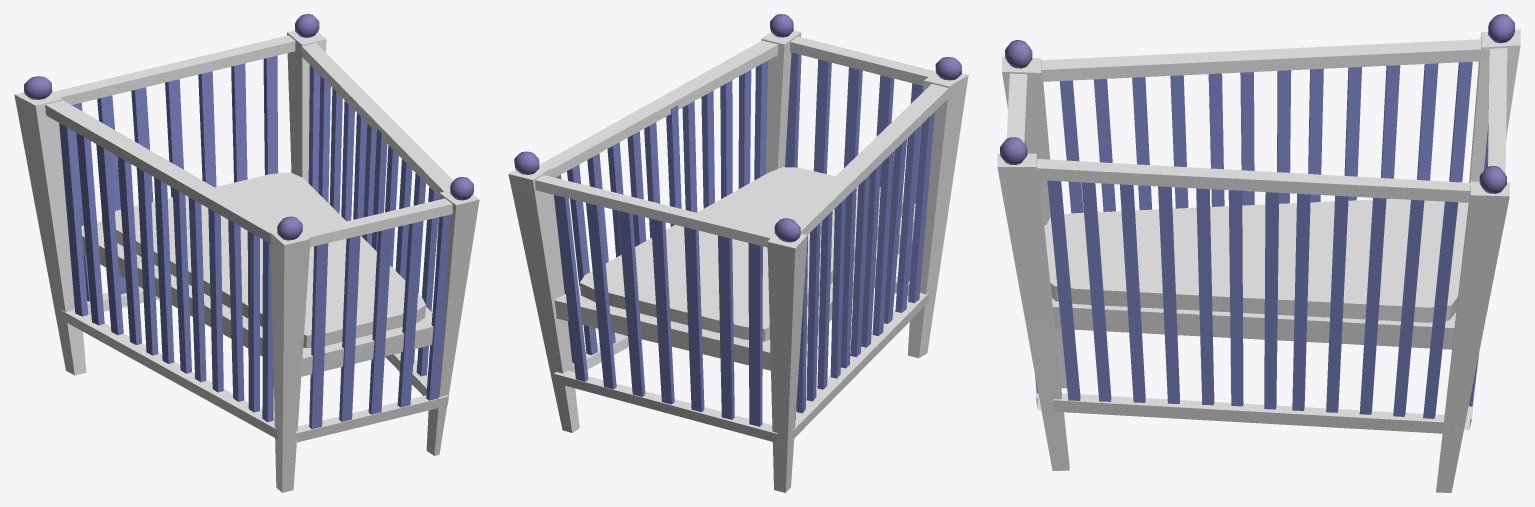
Rendered from babybox.FBX.
The picture shows the model from 3 angles, left to right: view 1: azimuth 30°, elevation 25°; view 2: azimuth 150°, elevation 25°; view 3: azimuth 270°, elevation 25°; orthographic projection. The views are drawn at different scales.
Visible parts, largest first — view 1: BabyBox; view 2: BabyBox; view 3: BabyBox.
Part boxes in pixels (box(x1,y1,x2,y2)): BabyBox: box(14, 14, 479, 492); BabyBox: box(508, 14, 968, 492); BabyBox: box(997, 14, 1520, 492).
Size of the model in its own units: 68.94 by 64.73 by 91.37.
Materials: 1 (1 with a texture image).
